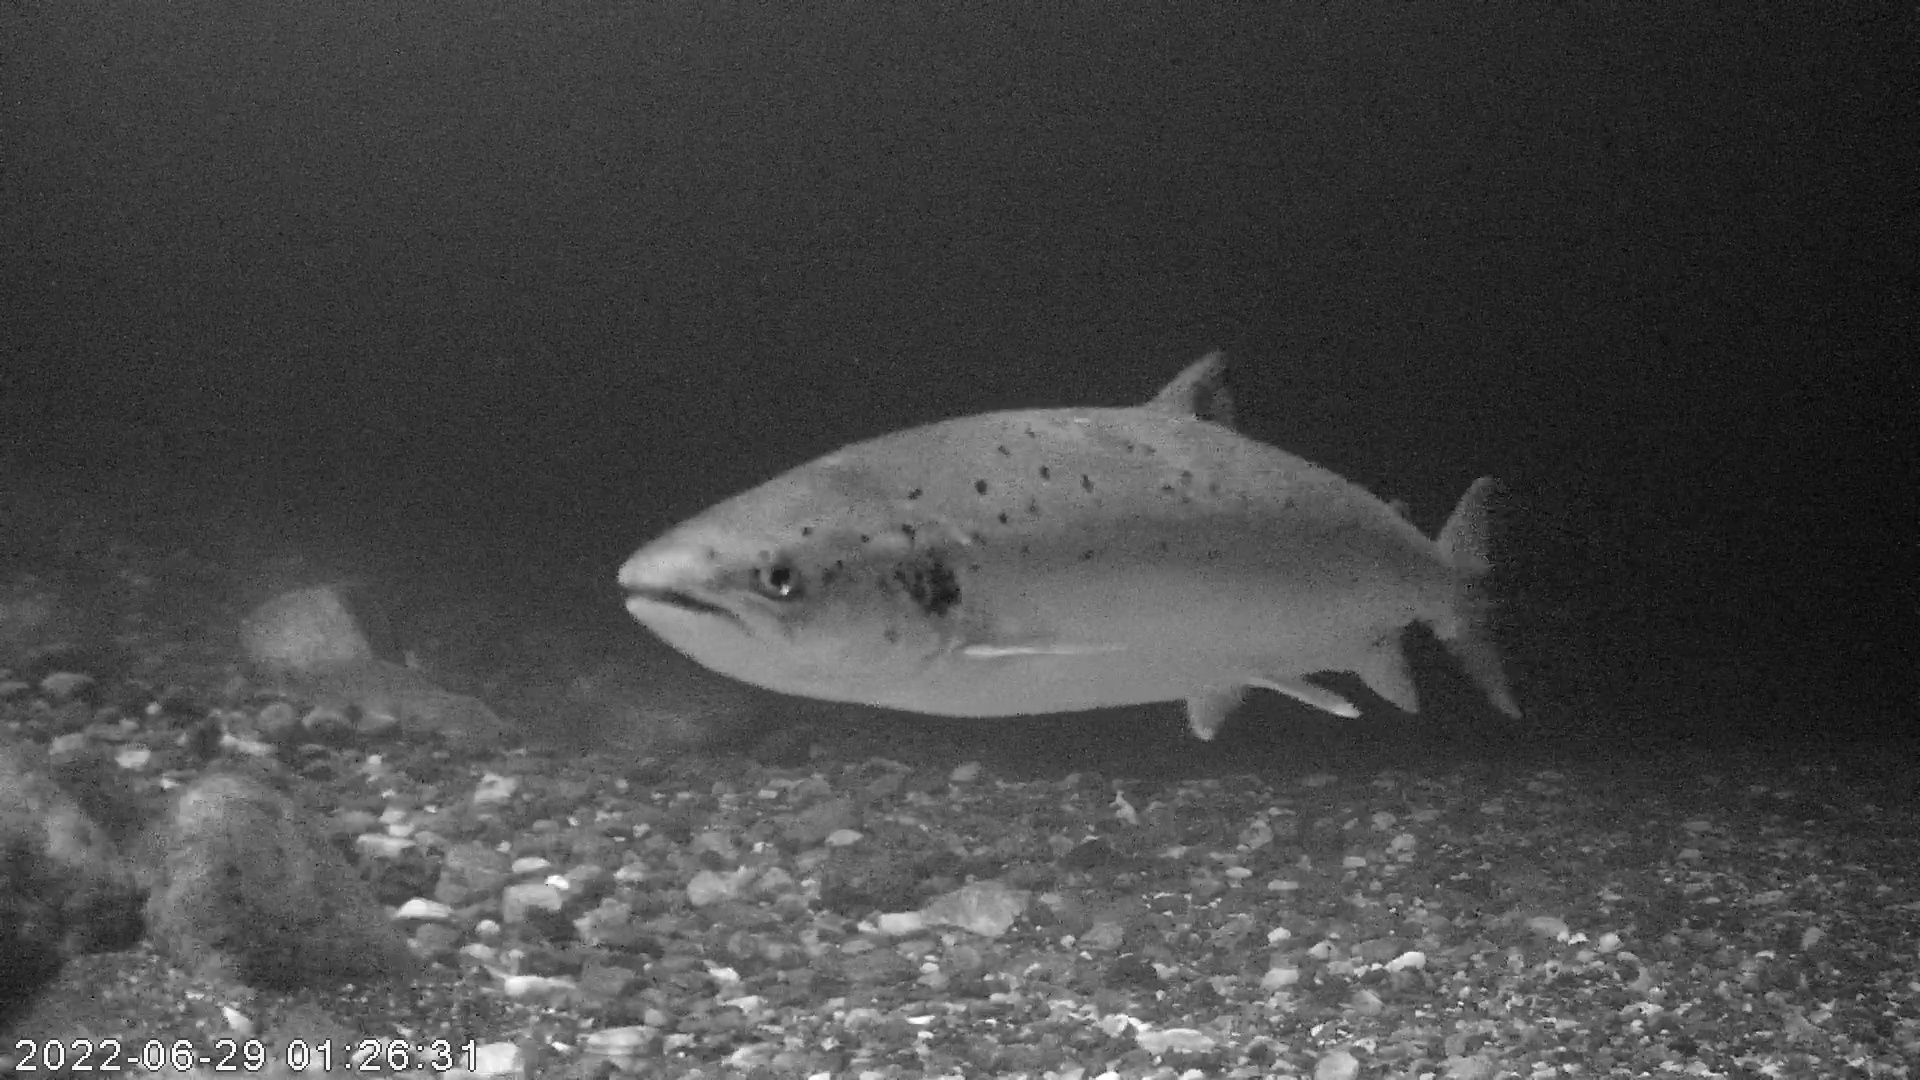salmon: (615, 344, 1527, 745)
